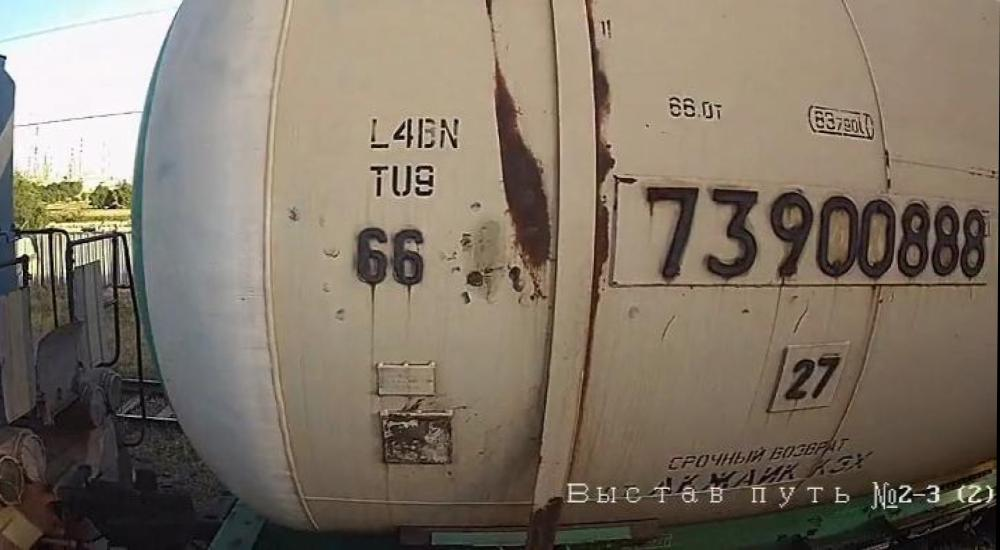Wagon-number: (634, 182, 990, 287)
